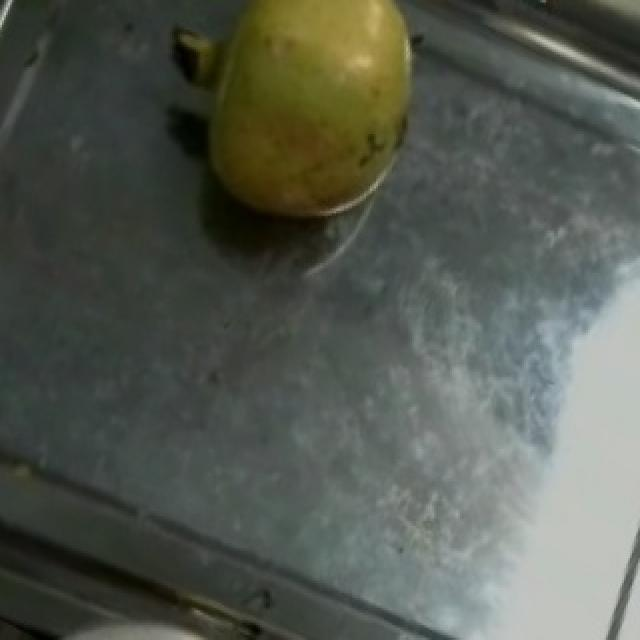fruit: (168, 0, 448, 253)
